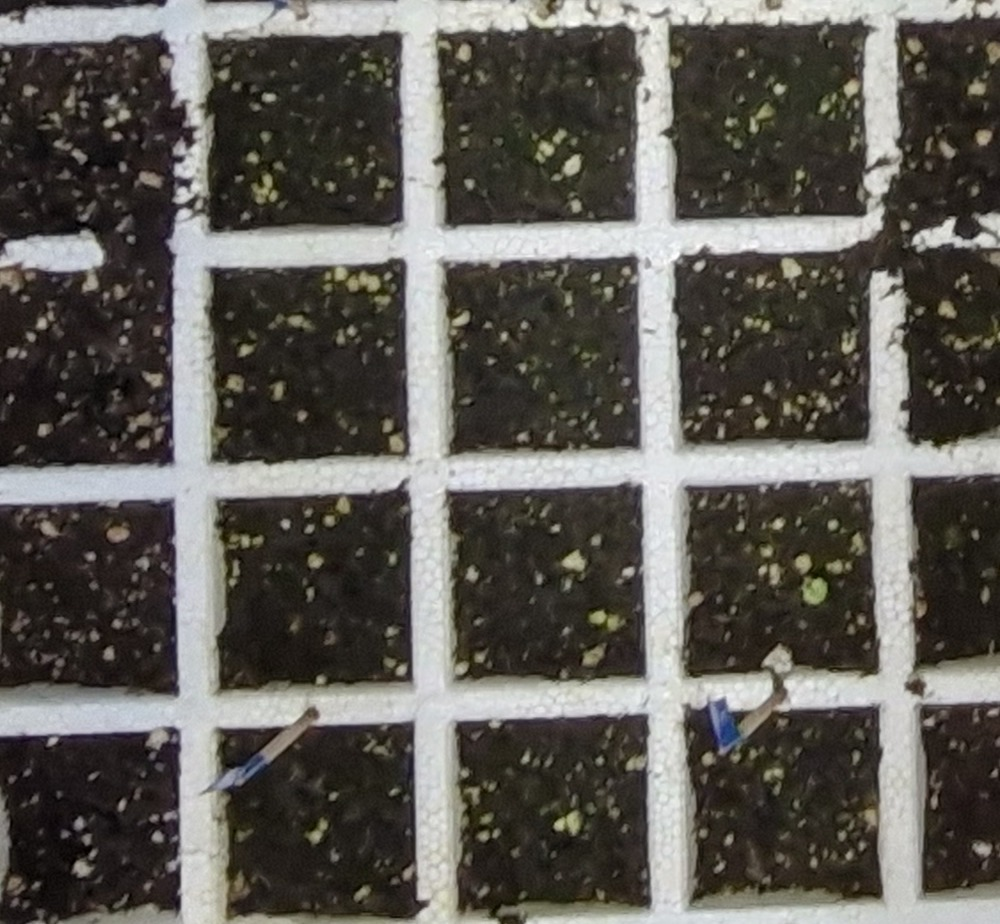Folha: (799, 573, 827, 604)
Germinacao: (801, 575, 829, 606)
